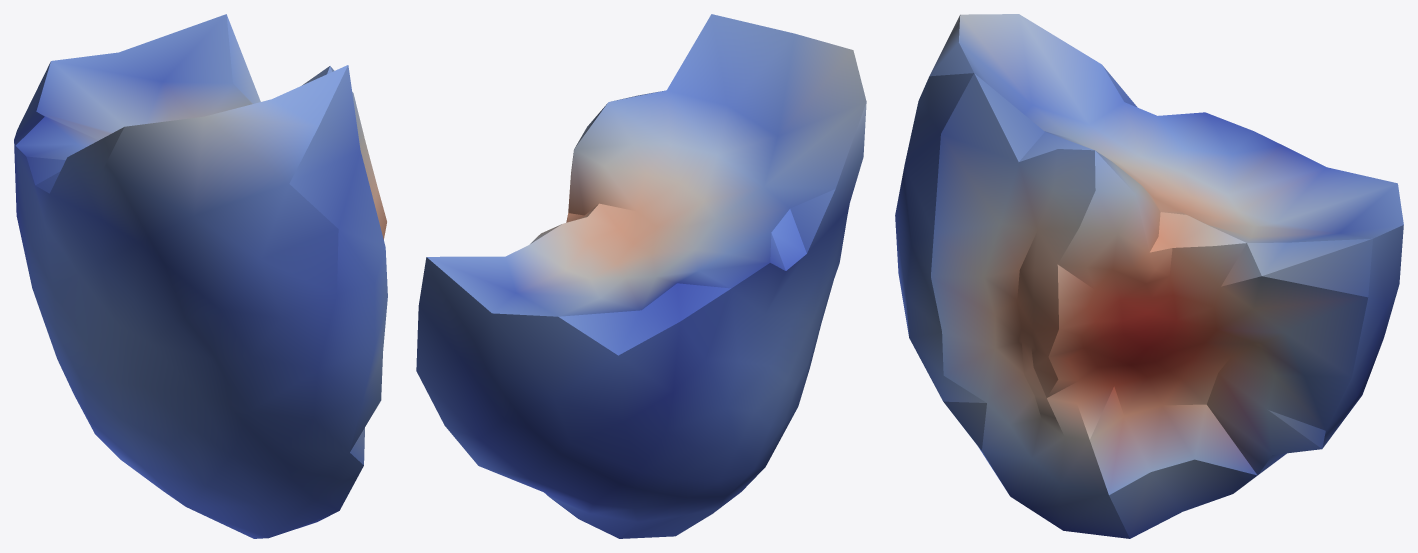
File: test_lung_flipped.glb
The picture shows the model from 3 angles, left to right: view 1: azimuth 30°, elevation 25°; view 2: azimuth 150°, elevation 25°; view 3: azimuth 270°, elevation 25°; orthographic projection. The views are drawn at different scales.
Visible parts, largest first — view 1: lung_coarse_flipped_86; view 2: lung_coarse_flipped_86; view 3: lung_coarse_flipped_86.
Part boxes in pixels (x1,y1,x2,y2): lung_coarse_flipped_86: [14, 14, 387, 538]; lung_coarse_flipped_86: [416, 14, 866, 538]; lung_coarse_flipped_86: [895, 14, 1403, 538].
Size of the model in its own units: 14.39 by 21.3 by 21.13.
